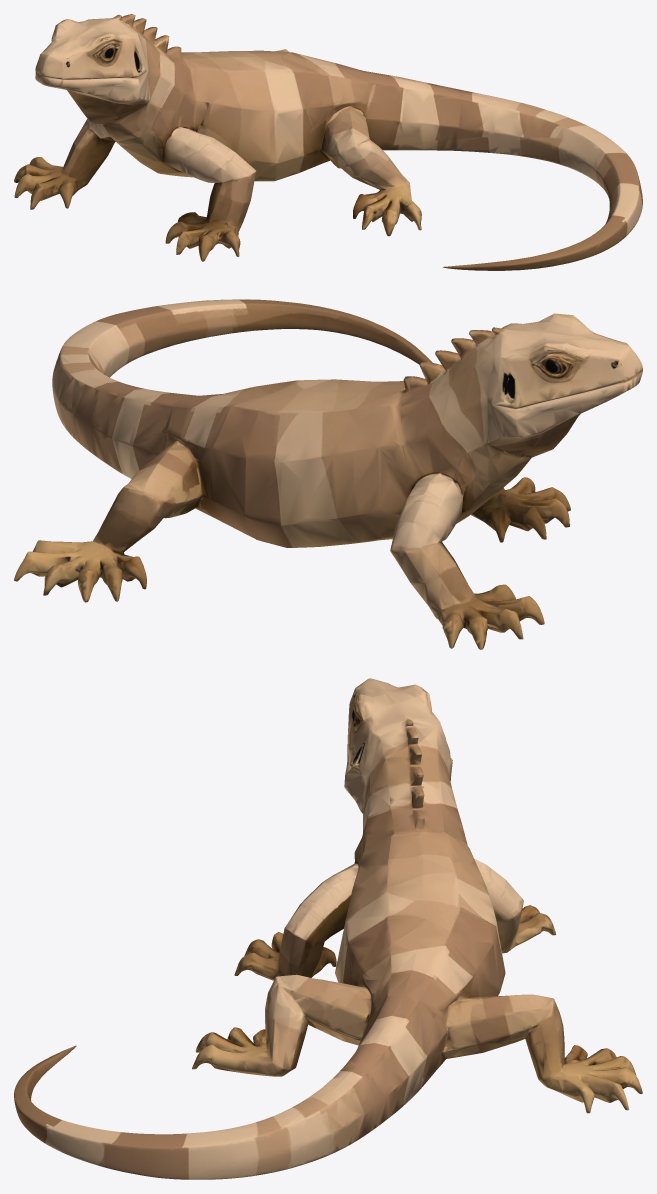
File: sand_lizard.glb
3 renders of one model, top to bottom at view 1: azimuth 30°, elevation 25°; view 2: azimuth 150°, elevation 25°; view 3: azimuth 270°, elevation 25°, orthographic. The views are drawn at different scales.
Parts seen in each view (by area): view 1: node_0; view 2: node_0; view 3: node_0.
Part boxes in pixels (<box>): node_0: <box>14,14,642,270</box>; node_0: <box>14,299,642,649</box>; node_0: <box>14,678,642,1179</box>.
Size of the model in its own units: 1.02 by 0.3854 by 0.9352.
1 material, 1 textured.
